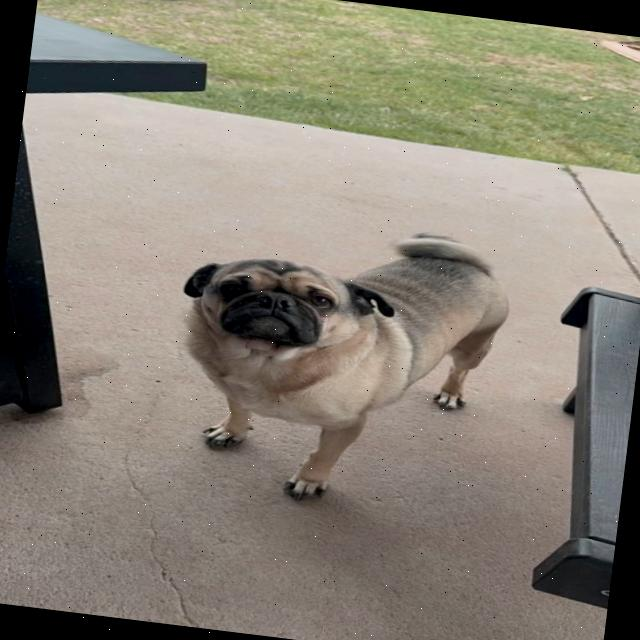pug_dog: (168, 240, 412, 381)
